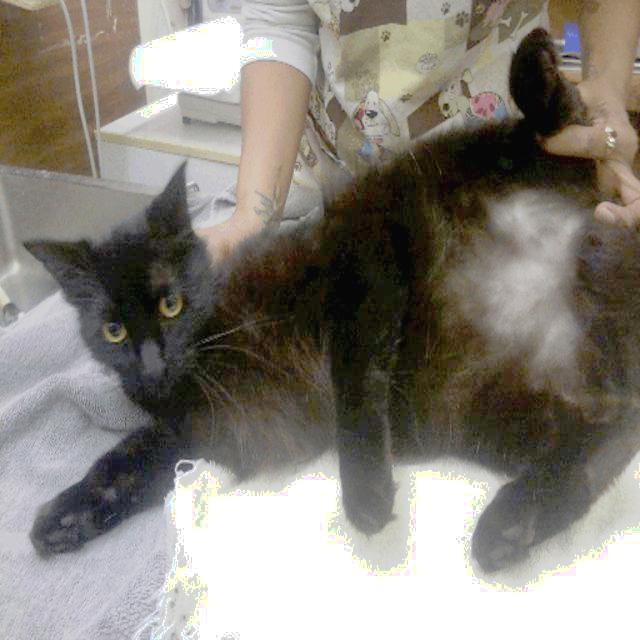hairloss: (499, 215, 578, 338)
